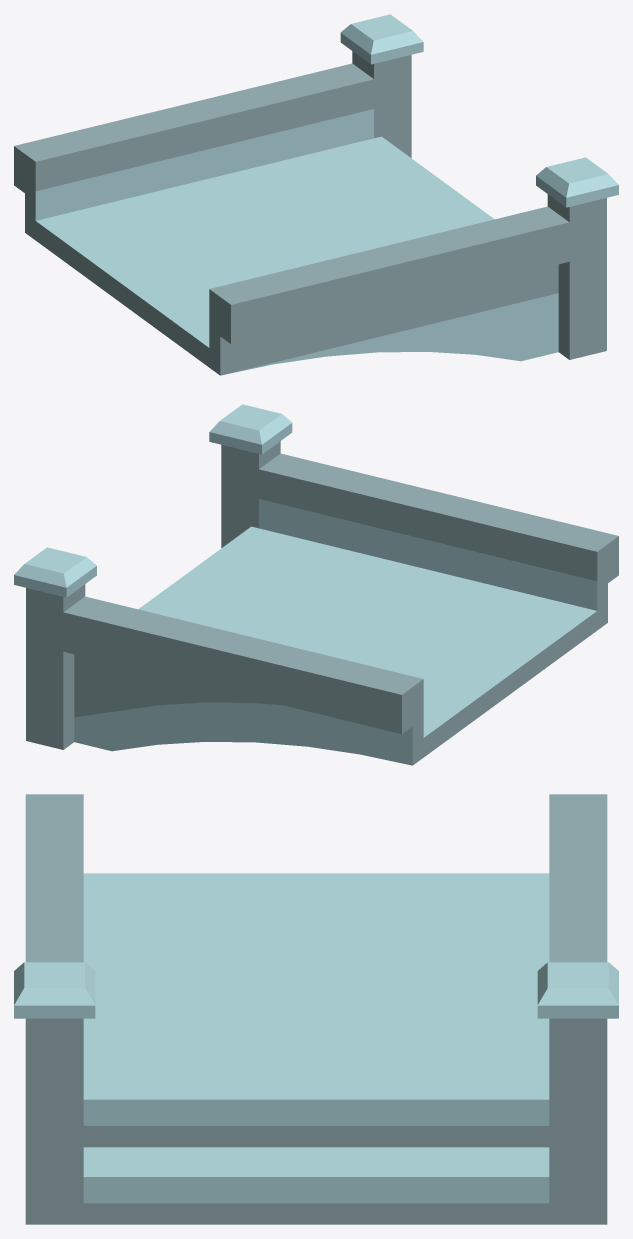
File: bridge_side_stoneRound.fbx
3 views of the same model, one above another, from view 1: azimuth 30°, elevation 25°; view 2: azimuth 150°, elevation 25°; view 3: azimuth 270°, elevation 25° (orthographic). The views are drawn at different scales.
Visible parts, largest first — view 1: bridge_side_stoneRound; view 2: bridge_side_stoneRound; view 3: bridge_side_stoneRound.
Part boxes in pixels (x1=…): bridge_side_stoneRound: x1=14, y1=14, x2=618, y2=375; bridge_side_stoneRound: x1=14, y1=404, x2=618, y2=765; bridge_side_stoneRound: x1=14, y1=794, x2=618, y2=1224.
Bounding box in the file's own units: 10.2 × 4.5 × 10.4.
